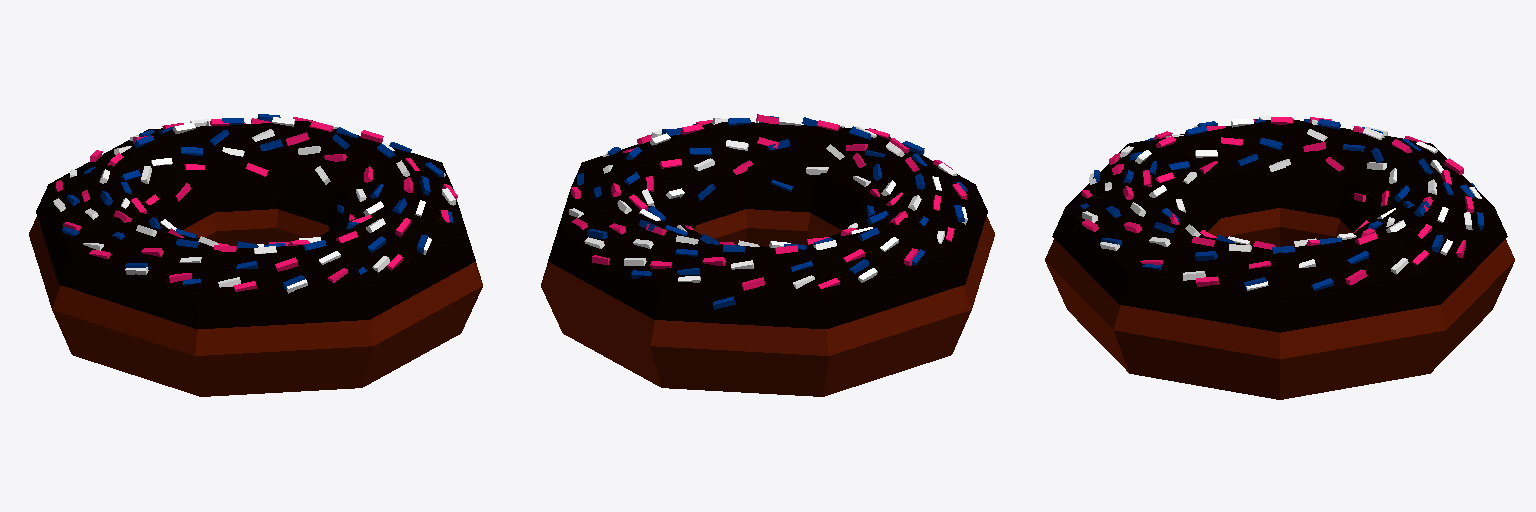
The picture shows the model from 3 angles: view 1: azimuth 30°, elevation 25°; view 2: azimuth 150°, elevation 25°; view 3: azimuth 270°, elevation 25°; orthographic projection.
Visible parts, largest first — view 1: donut; view 2: donut; view 3: donut.
Part boxes in pixels (left/top/right/bottom): donut: left=29, top=114, right=482, bottom=396; donut: left=541, top=114, right=994, bottom=396; donut: left=1045, top=116, right=1514, bottom=399.
Bounding box in the file's own units: 0.375 × 0.1321 × 0.375.